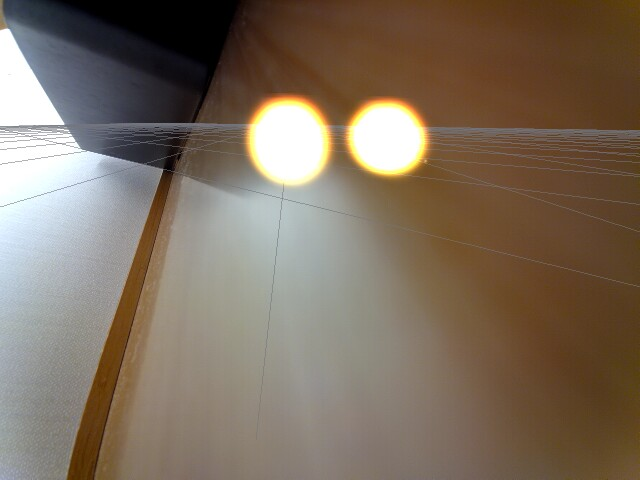fire: (245, 91, 333, 185), (345, 96, 431, 180)
